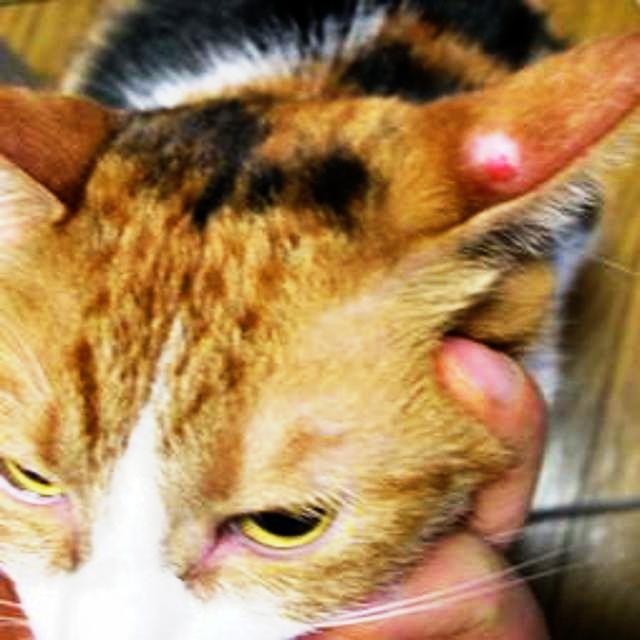lump_and_bump: (479, 148, 520, 181)
